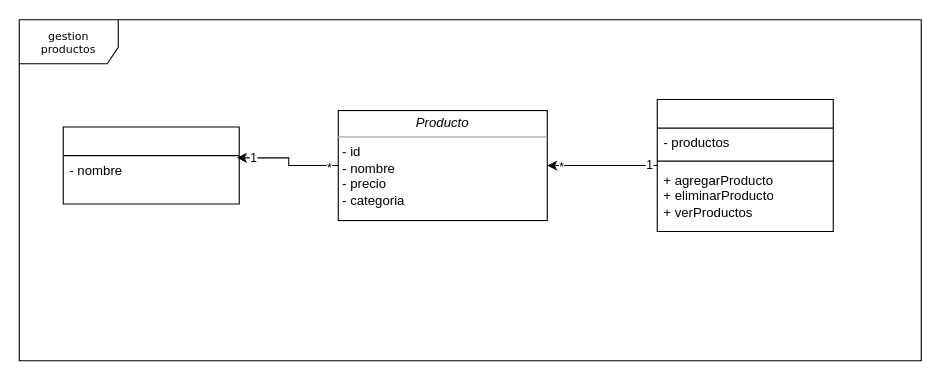
This 941x380 diagram has some shape labels left out. The box of each missing label's shape, as (x1, y1, x2, y2) in pixels:
Categoria: (62, 126, 239, 204)
Inventario: (656, 98, 833, 232)
